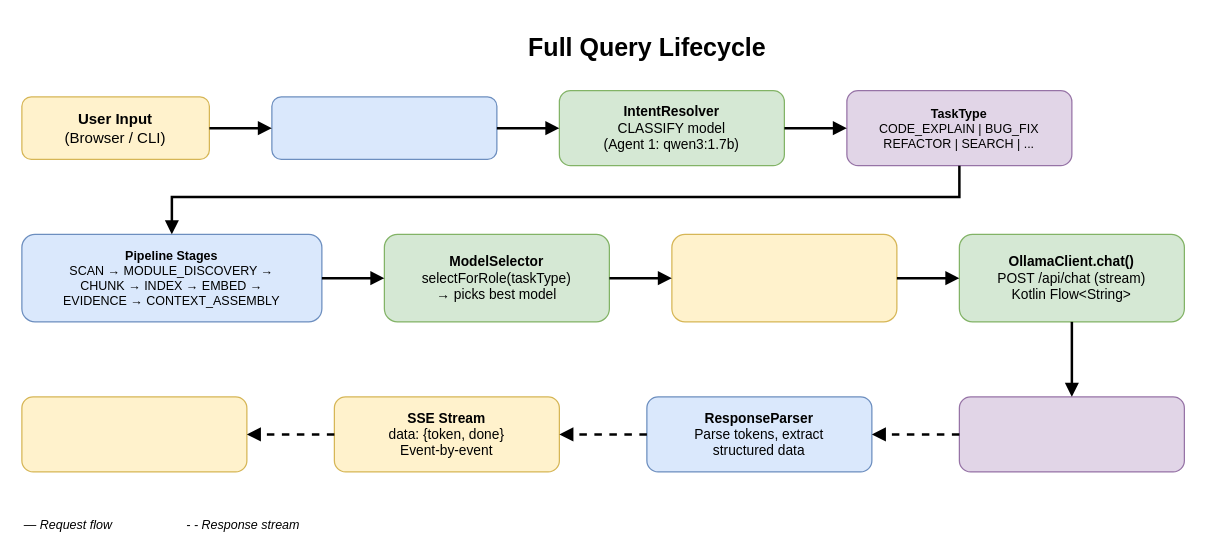
Some shapes in this 1206 by 555 pixel diagram are drawn without their labels. The centre of each missing label's shape, as x and y in pixels:
"AgentOrchestrator ensureAgentReady() Memory check + swap" belongs at (x=784, y=277).
"Browser EventSource renders tokens in real-time" belongs at (x=134, y=434).
"Ollama Server Local LLM inference NDJSON stream" belongs at (x=1071, y=434).
"POST /api/ask/stream ForgeServer (Ktor)" belongs at (x=384, y=127).
